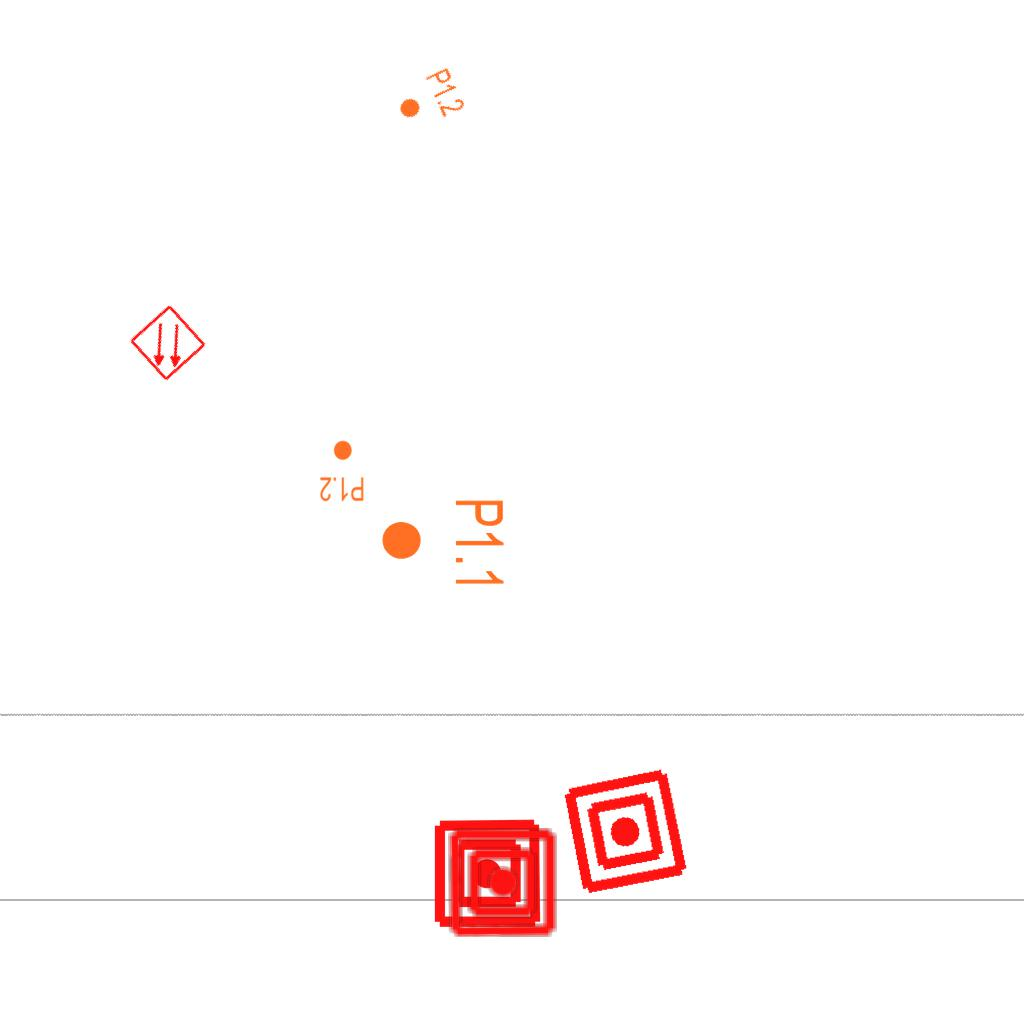Downlight_LED_Einbauleuchten_Flur: (379, 497, 507, 590), (390, 65, 468, 135), (319, 439, 365, 503)
NAM-Nichtautomatischer_Melder: (559, 765, 692, 898), (431, 817, 544, 930), (446, 826, 559, 939)
RMO_Rauchmelder_optischer: (128, 303, 208, 383)
